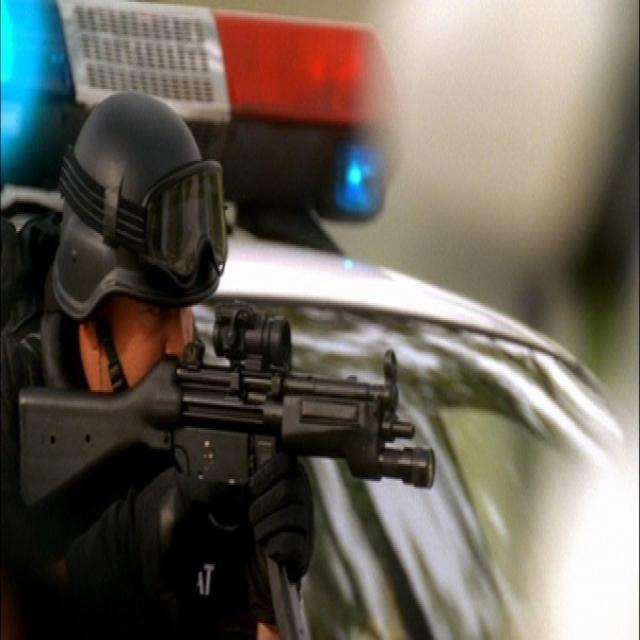rifle: (15, 296, 441, 640)
